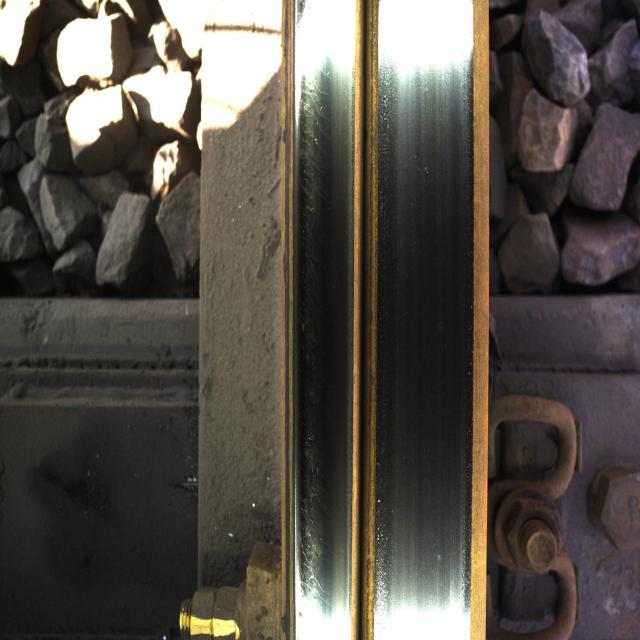break: (388, 25, 467, 574)
normal: (299, 38, 351, 420)
